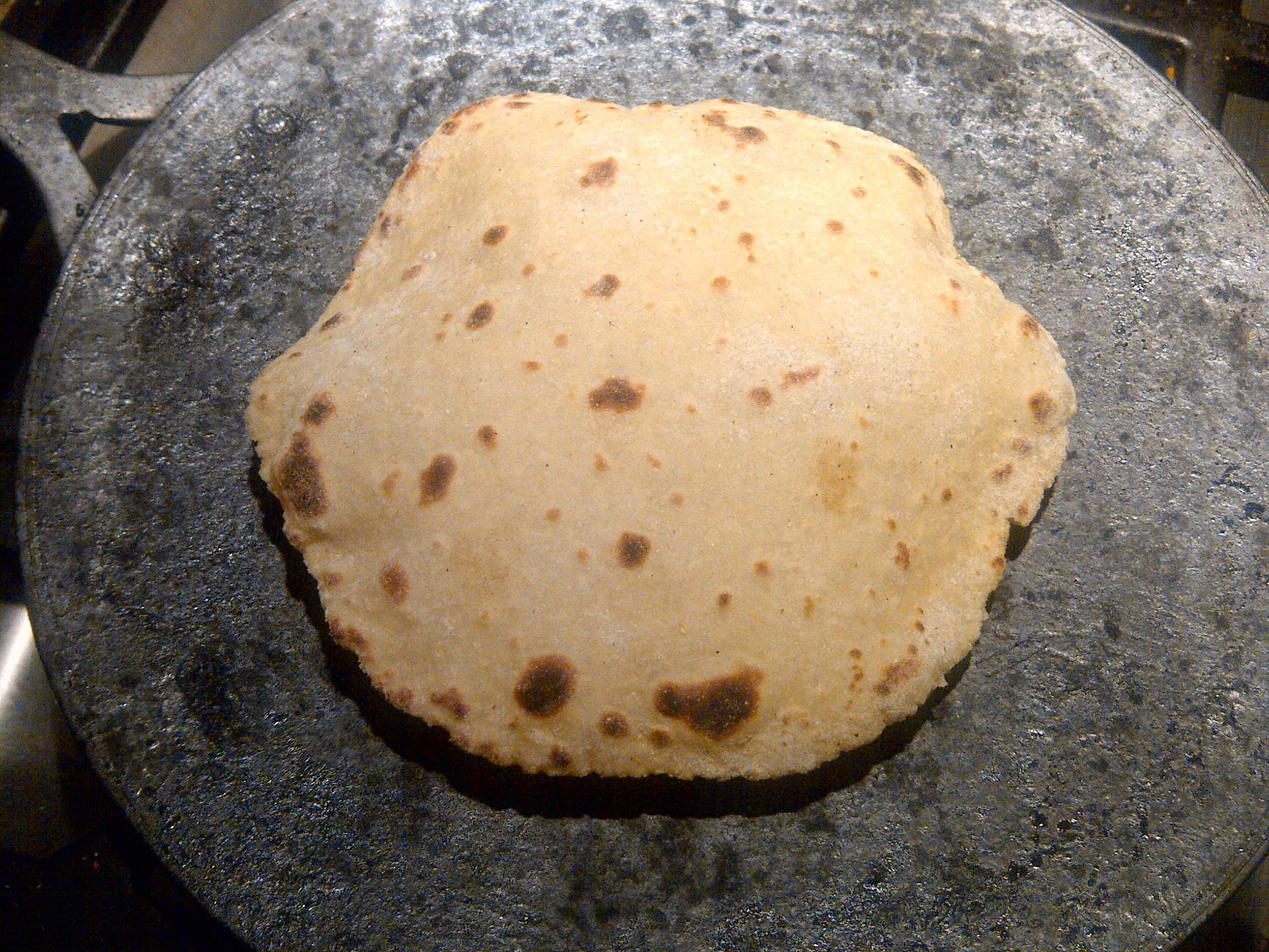roti: (245, 104, 1067, 783)
